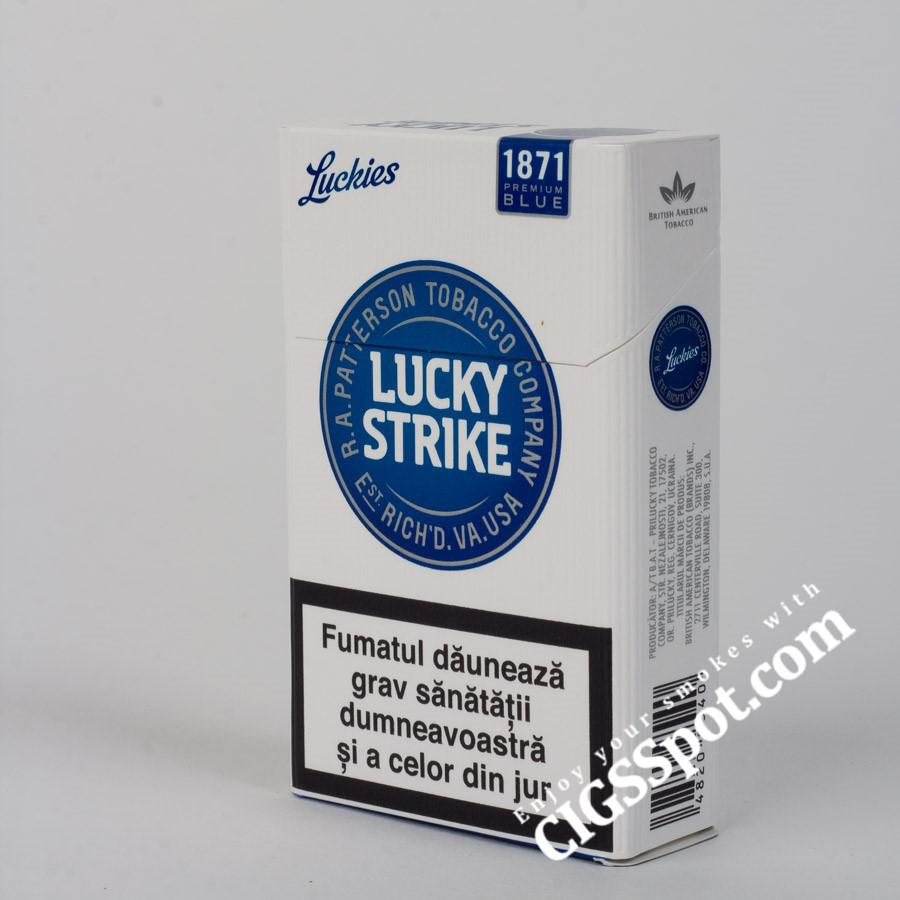lucky_strike_blue: (296, 138, 621, 791)
